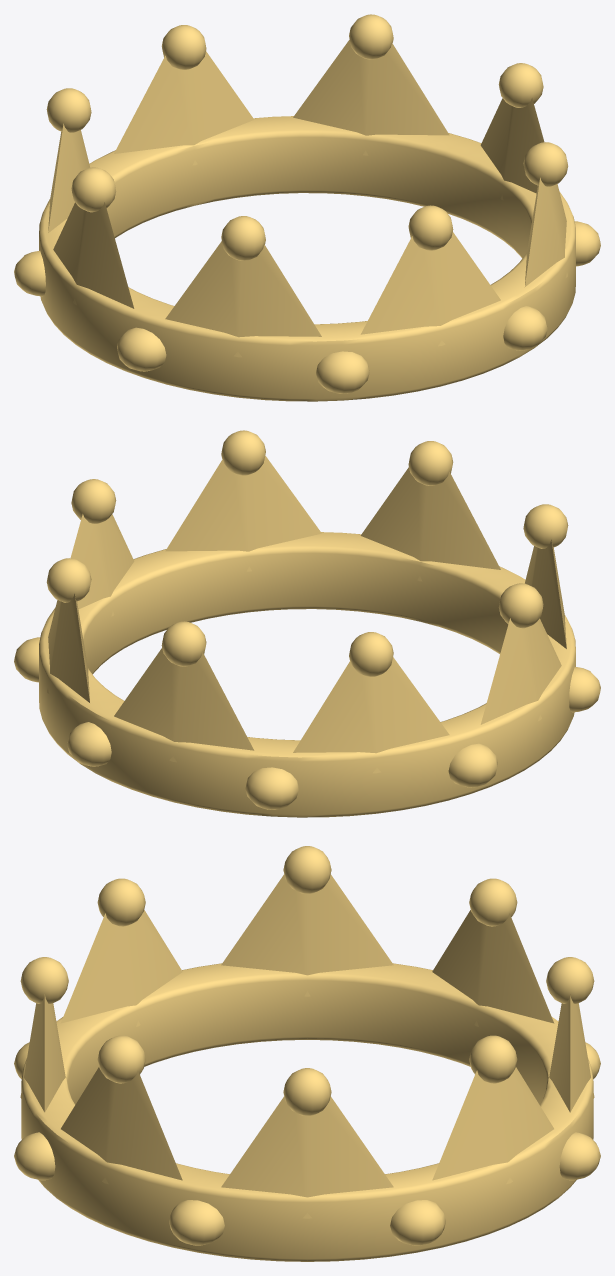
File: crown.glb
3 renders of one model, top to bottom at view 1: azimuth 30°, elevation 25°; view 2: azimuth 150°, elevation 25°; view 3: azimuth 270°, elevation 25°, orthographic. The views are drawn at different scales.
Parts seen in each view (by area): view 1: crown; view 2: crown; view 3: crown.
Part boxes in pixels (<box>): crown: <box>14,14,600,401</box>; crown: <box>14,430,600,817</box>; crown: <box>14,846,600,1261</box>.
Bounding box in the file's own units: 0.1504 × 0.0522 × 0.1508.
